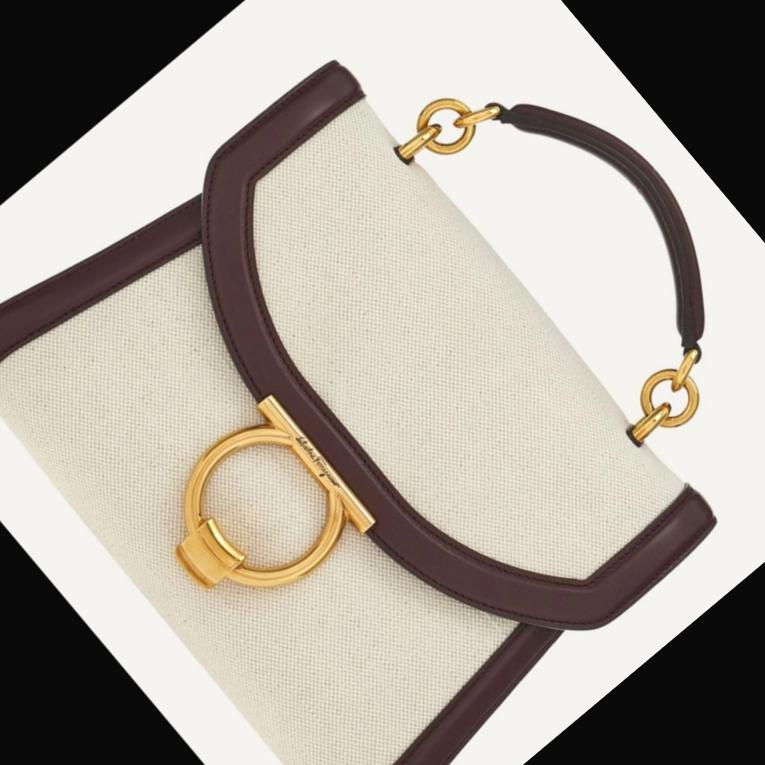FERRAGAMO: (100, 354, 418, 672)
